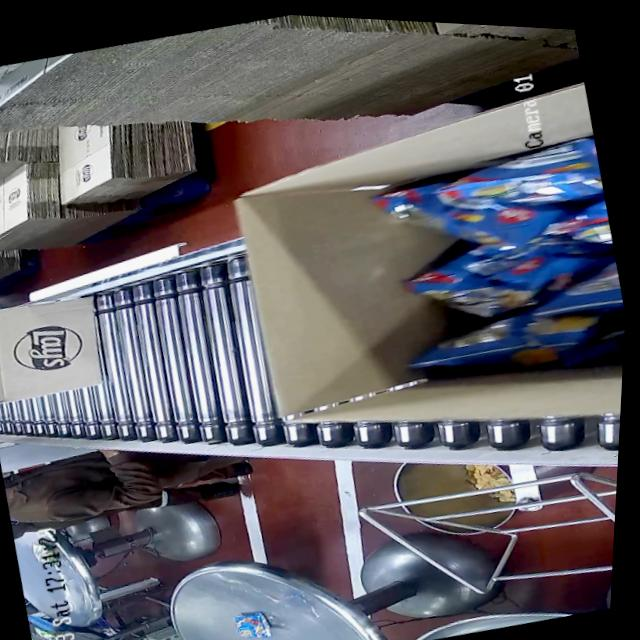PAPRIKA: (330, 102, 636, 411)
